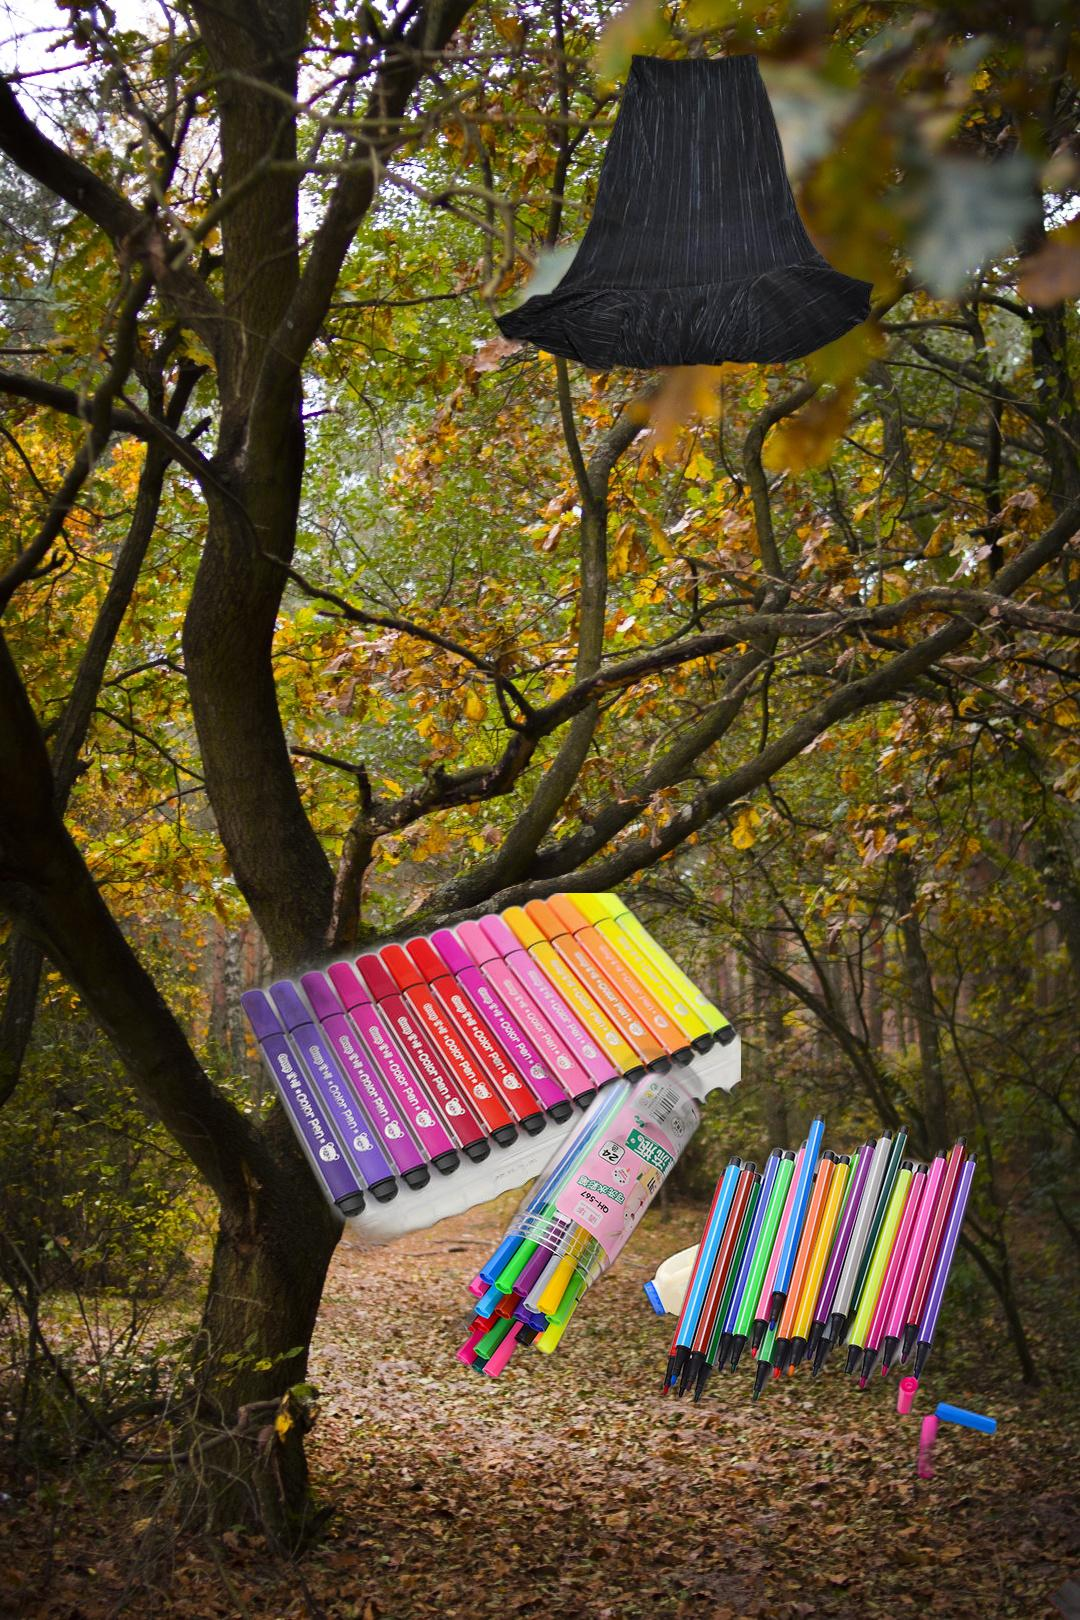clothes: (491, 49, 876, 380), (1041, 1516, 1080, 1620)
penholder: (241, 893, 741, 1393), (447, 1045, 1003, 1484)
plastic-bottles: (638, 1176, 861, 1323)
